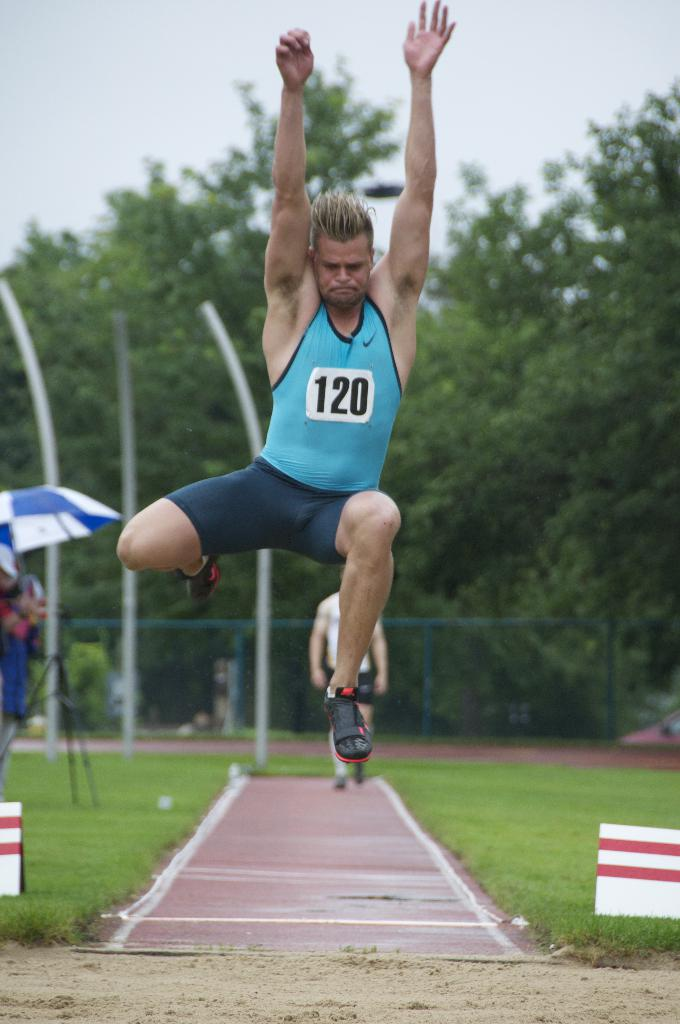Person: (306, 572, 392, 789)
